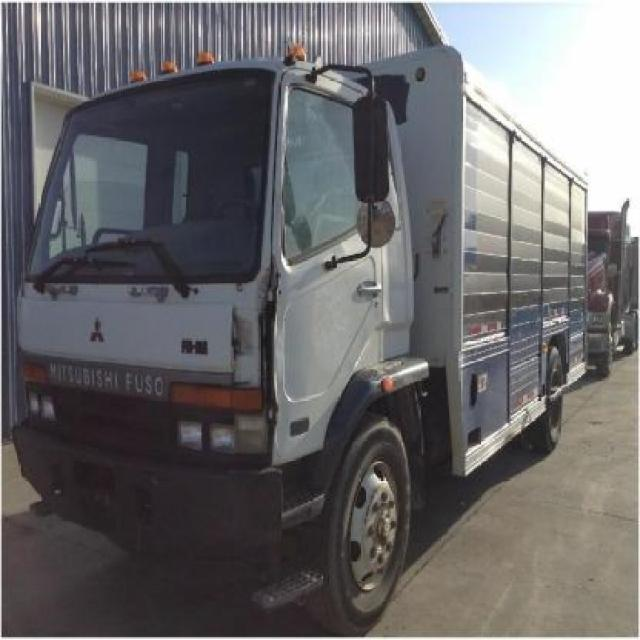truck: (13, 45, 590, 636)
